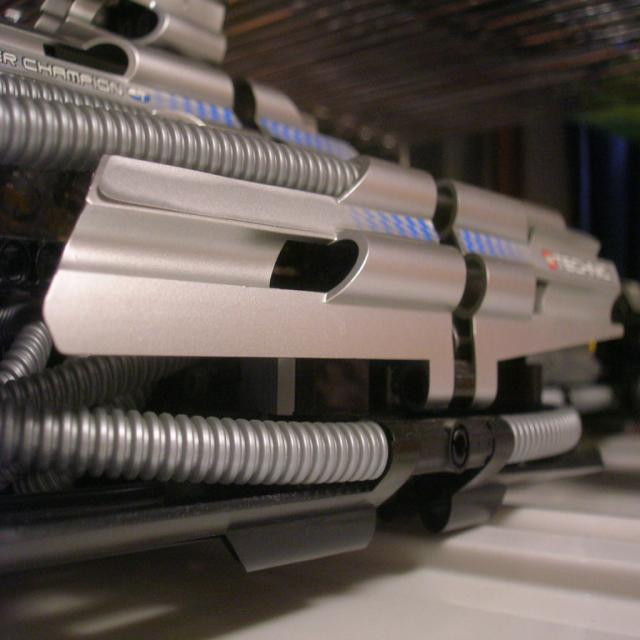weapon: (0, 0, 624, 579)
